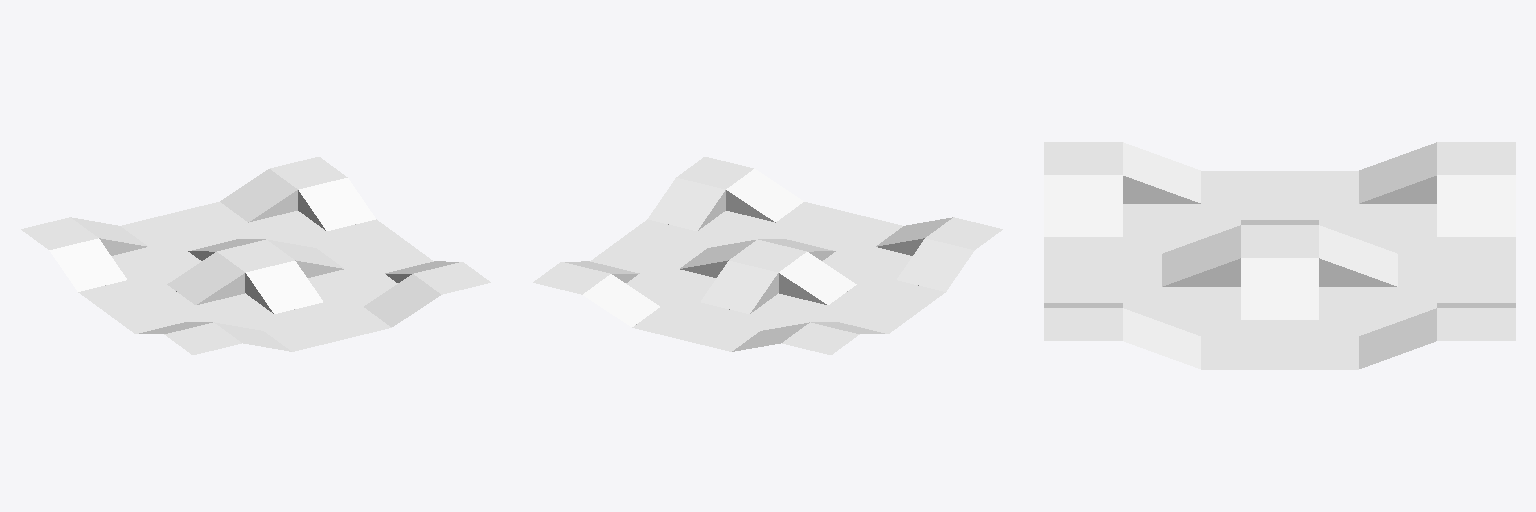
The robot description file, URDF, robot "tag1_1":
<?xml version="1.0" ?>
<robot name="tag1_1">
  <link name="ground">
  <contact>
      <lateral_friction value="2"/>
  </contact>
    <inertial>
      <origin rpy="0 0 0" xyz="0 0 0"/>
       <mass value="1000.0"/>
       <inertia ixx="0" ixy="0" ixz="0" iyy="0" iyz="0" izz="0"/>
    </inertial>
    <visual>
      <origin rpy="0 0 0" xyz="0 0 0"/>
      <geometry>
        <mesh filename="tag1_4.obj" scale="1 1 1"/>
      </geometry>
       <material name="white">
        <color rgba="1 1 1 1"/>
      </material>
    </visual>
        <collision concave="yes">
      <origin rpy="0 0 0" xyz="0 0 0"/>
      <geometry>
        <mesh filename="tag1_4.obj" scale="1 1 1"/>
      </geometry>
    </collision>
  </link>
</robot>

--- Render facts (derived) ---
3 views of the same robot in one strip: view 1: azimuth 30°, elevation 25°; view 2: azimuth 150°, elevation 25°; view 3: azimuth 270°, elevation 25° (orthographic).
Model tag1_1 with 1 links and 0 joints (none), rooted at ground, posed all joints at 0.
Visible links, largest first — view 1: ground; view 2: ground; view 3: ground.
Link boxes in pixels (box(x1,y1,x2,y2)): ground: box(21, 157, 490, 354); ground: box(533, 157, 1002, 354); ground: box(1044, 142, 1515, 369).
Size in the robot's own frame: 30 by 30 by 2 metres.
Meshes: 1 distinct files referenced, 1 mesh visuals loaded (1 OBJ).